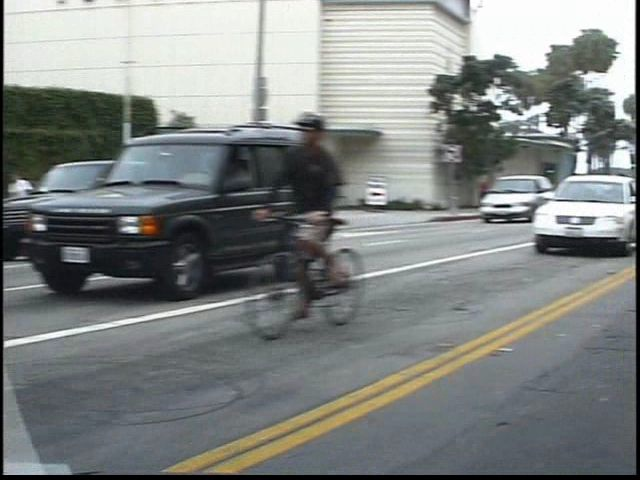person: (292, 107, 384, 323), (29, 168, 58, 247), (494, 171, 514, 217)
